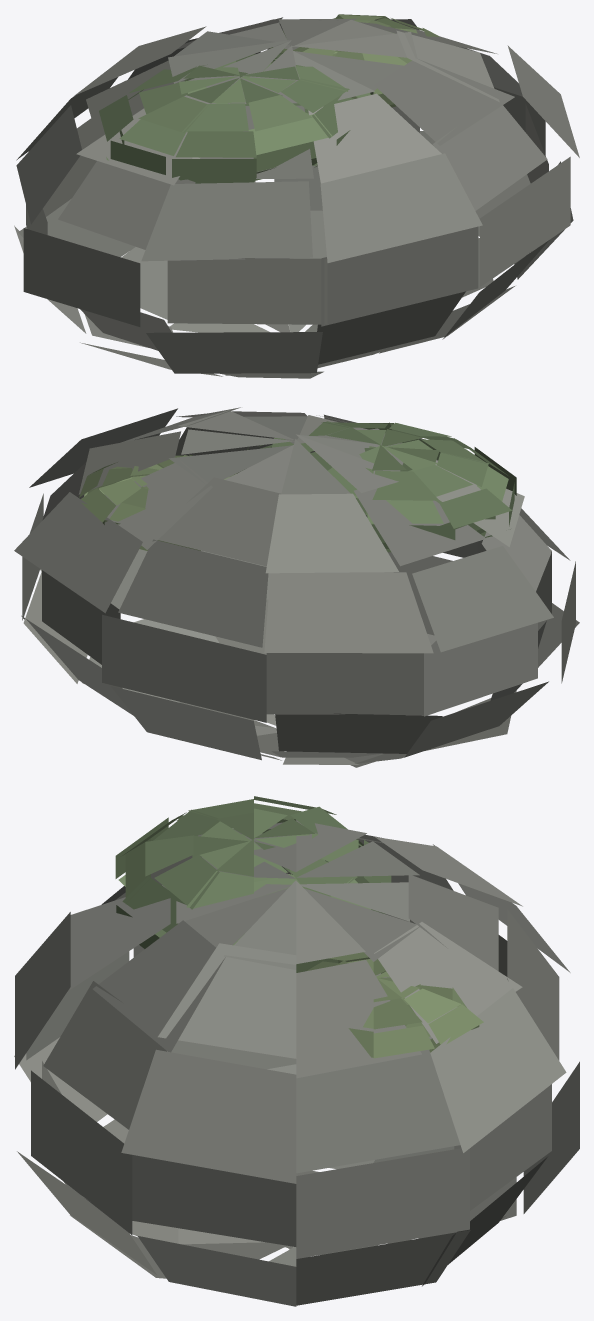
File: rock_moss_a.gltf
3 renders of one model, top to bottom at view 1: azimuth 30°, elevation 25°; view 2: azimuth 150°, elevation 25°; view 3: azimuth 270°, elevation 25°, orthographic. The views are drawn at different scales.
Visible parts, largest first — view 1: Moss Rock; view 2: Moss Rock; view 3: Moss Rock.
Boxes of the visible parts, bbox=[...] form: Moss Rock: bbox=[14, 14, 579, 378]; Moss Rock: bbox=[14, 407, 579, 767]; Moss Rock: bbox=[14, 796, 579, 1306].
Bounding box in the file's own units: 2.19 × 1.2 × 1.61.
